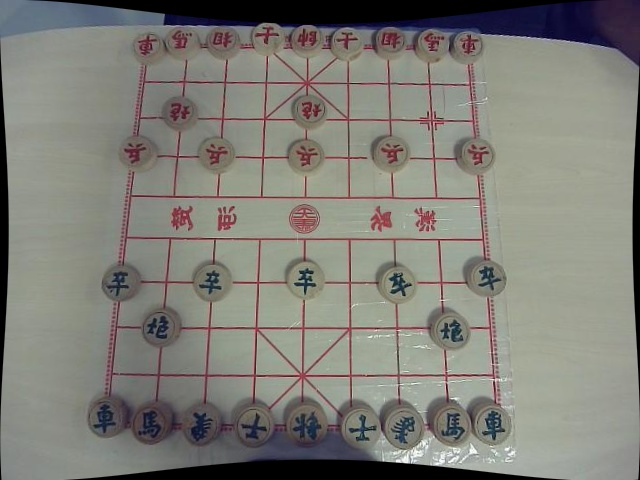Black-Cannon: (141, 309, 178, 346), (437, 312, 466, 347)
Black-Chariot: (88, 397, 126, 437), (474, 405, 512, 443)
Black-Elephant: (179, 399, 223, 448), (384, 409, 422, 448)
Black-General: (288, 408, 326, 444)
Black-Guard: (233, 400, 274, 450), (342, 402, 380, 446)
Black-Horse: (134, 402, 169, 445), (436, 404, 469, 444)
Black-Soldier: (284, 261, 327, 301), (379, 265, 419, 304), (190, 262, 231, 300), (469, 260, 507, 296), (102, 265, 138, 301)
Red-Cannon: (293, 92, 330, 125), (164, 95, 197, 129)
Red-Chariot: (455, 25, 483, 63), (135, 33, 162, 59)
Red-Elephant: (378, 24, 408, 56), (209, 26, 242, 55)
Red-General: (293, 22, 322, 55)
Red-Guard: (249, 17, 283, 53), (329, 26, 365, 58)
Red-Horse: (168, 22, 196, 54), (419, 27, 448, 57)
Red-Soldier: (114, 134, 159, 170), (457, 136, 496, 174), (374, 135, 409, 172), (199, 139, 234, 171), (291, 139, 320, 173)
